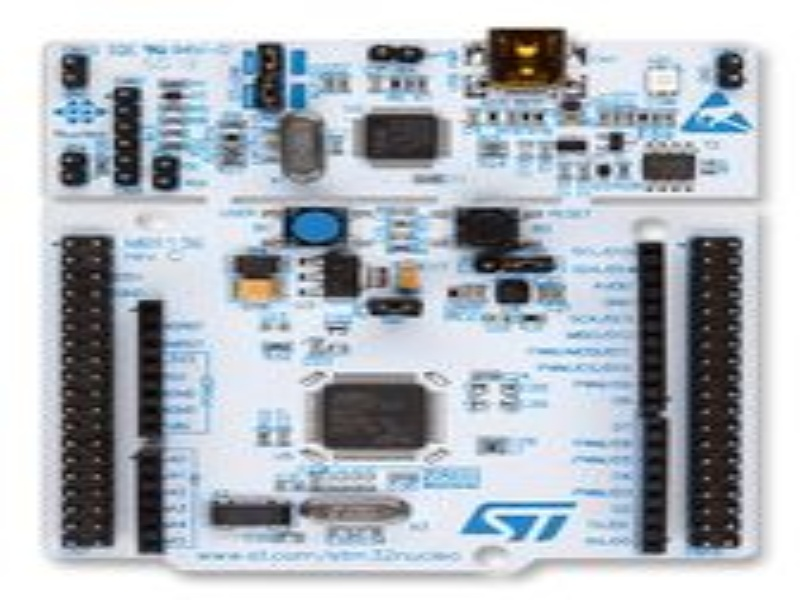stmnucleo: (31, 19, 760, 539)
